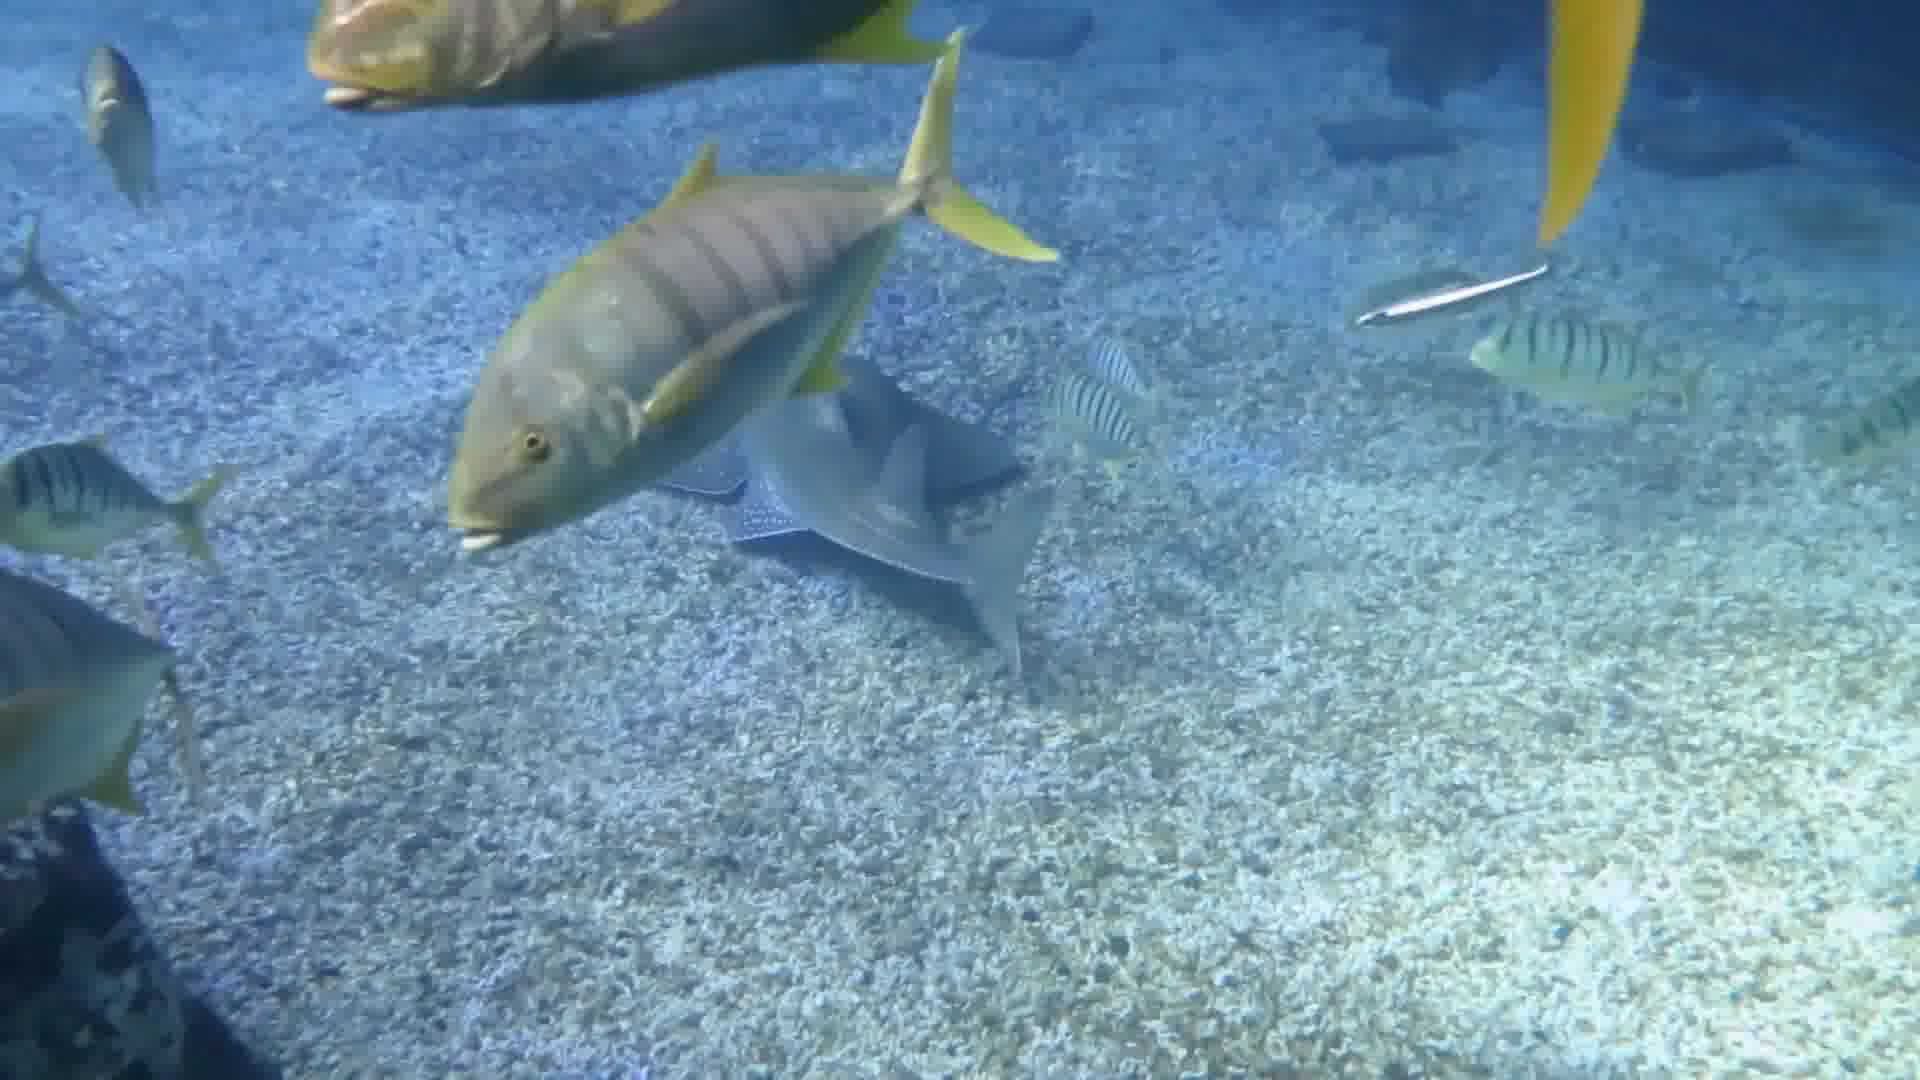Rhychobatus djiddensis: (760, 359, 1089, 638)
